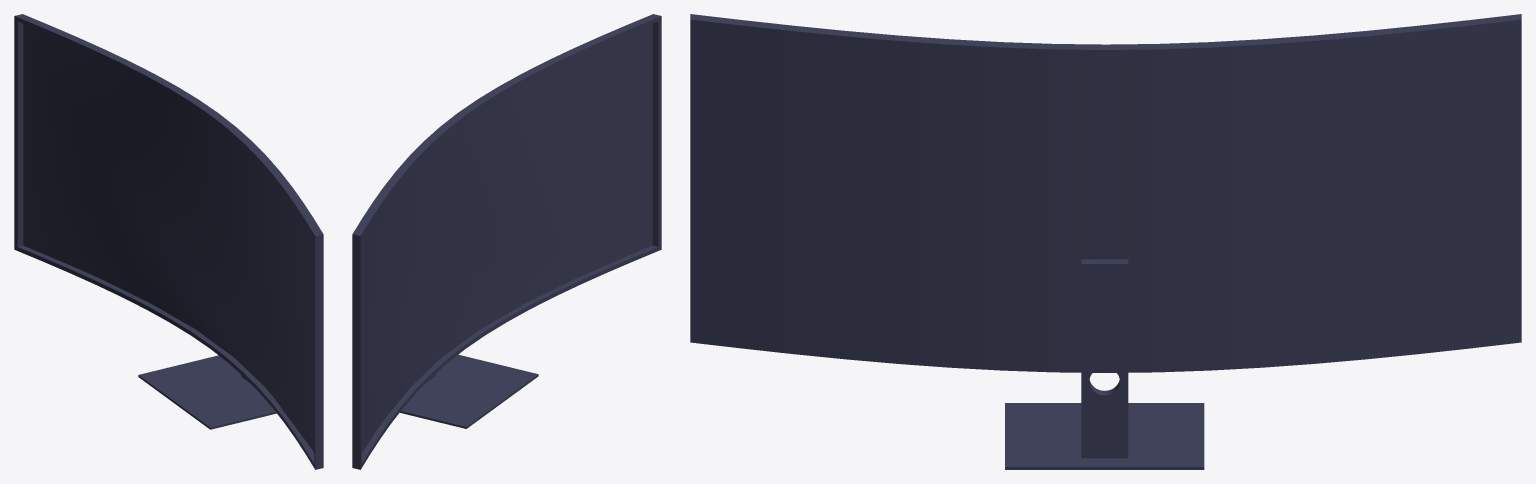
File: monitorf.glb
3 views of the same model, side by side, from view 1: azimuth 30°, elevation 25°; view 2: azimuth 150°, elevation 25°; view 3: azimuth 270°, elevation 25° (orthographic). The views are drawn at different scales.
Visible parts, largest first — view 1: Plane, stand; view 2: Plane, stand; view 3: Plane, stand.
Boxes of the visible parts, box(x1,y1,x2,y2) form: Plane: box(14, 14, 323, 469); stand: box(138, 355, 276, 429); Plane: box(352, 14, 661, 469); stand: box(400, 354, 538, 428); Plane: box(690, 14, 1521, 372); stand: box(1005, 259, 1204, 469).
Bounding box in the file's own units: 0.6857 × 1.75 × 3.43.
